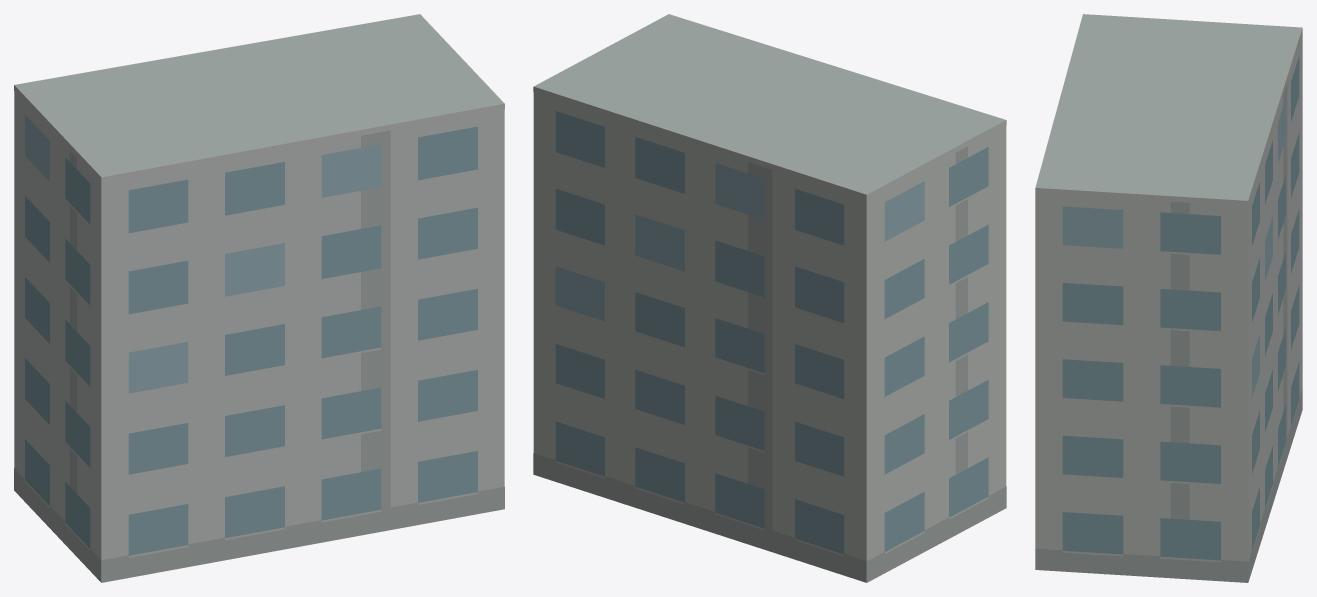
File: survey-upis-33036012.glb
3 views of the same model, side by side, from view 1: azimuth 30°, elevation 25°; view 2: azimuth 150°, elevation 25°; view 3: azimuth 270°, elevation 25° (orthographic). The views are drawn at different scales.
Visible parts, largest first — view 1: survey-upis-33036012.tmp; view 2: survey-upis-33036012.tmp; view 3: survey-upis-33036012.tmp.
Part boxes in pixels (<box>): survey-upis-33036012.tmp: <box>14,14,504,582</box>; survey-upis-33036012.tmp: <box>533,14,1006,582</box>; survey-upis-33036012.tmp: <box>1035,14,1302,582</box>.
Bounding box in the file's own units: 17.54 × 16.71 × 10.61.
